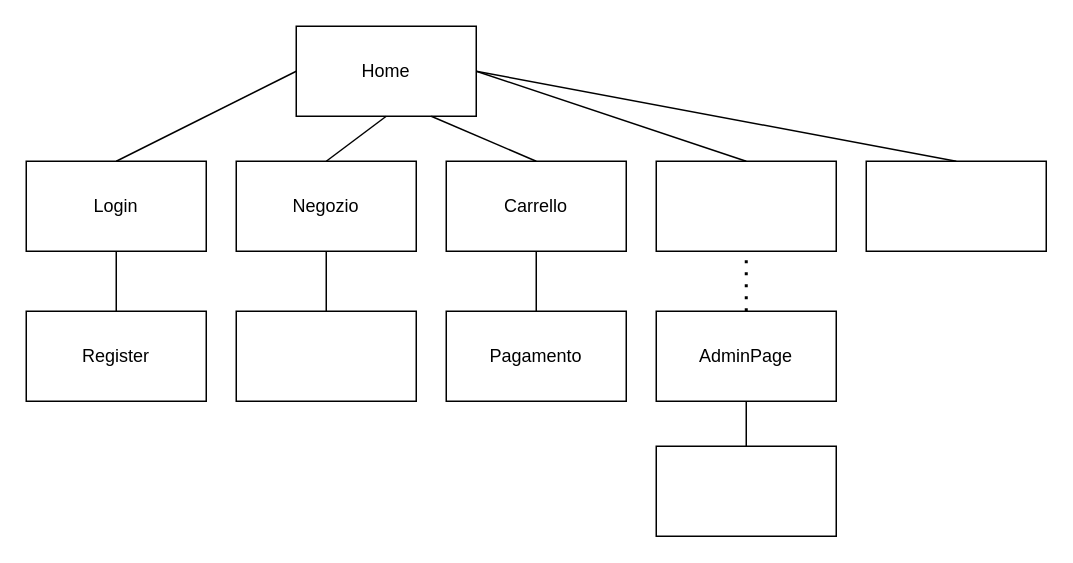
This 1073x563 diagram has some shape labels left out. The shapes that lost their labels are listed below. From the top down, each one's box as (x1, y1, x2, y2) in pixels, then its label:
(655, 160, 836, 251): AreaUtente
(865, 160, 1046, 251): About
(235, 310, 416, 401): Prodotto
(655, 445, 836, 536): Visualizza Ordini
